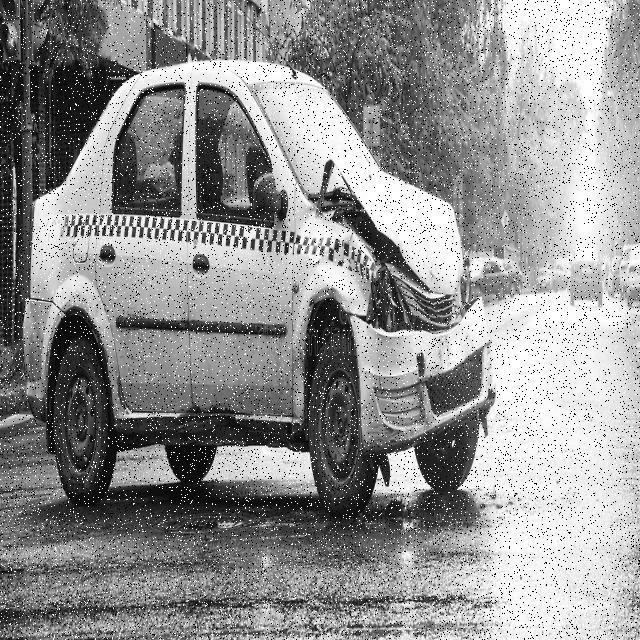Runningboard-Damage: (115, 389, 238, 433)
bonnet-dent: (312, 145, 466, 300)
front-bumper-dent: (335, 282, 506, 456)
